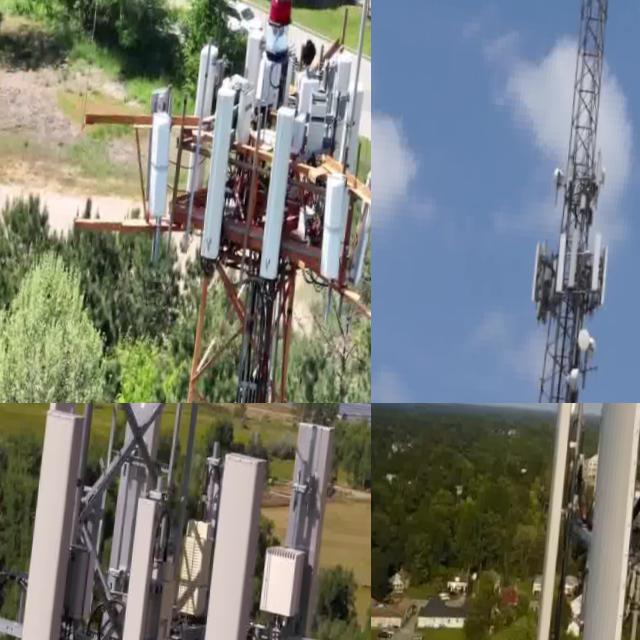GSM Antenna: (7, 403, 99, 640), (184, 428, 277, 640), (562, 403, 640, 640), (267, 409, 333, 640), (533, 403, 589, 640), (94, 495, 172, 640), (34, 403, 97, 564), (196, 79, 246, 263), (261, 95, 305, 282), (189, 35, 228, 190), (141, 104, 184, 235), (318, 157, 359, 270), (354, 161, 371, 291), (601, 233, 620, 312), (593, 222, 612, 299), (558, 221, 578, 294), (570, 218, 589, 287), (537, 237, 554, 300)
Microwave Antenna: (574, 361, 591, 391), (556, 161, 573, 190), (585, 321, 598, 349), (594, 329, 606, 358), (602, 163, 613, 182)
